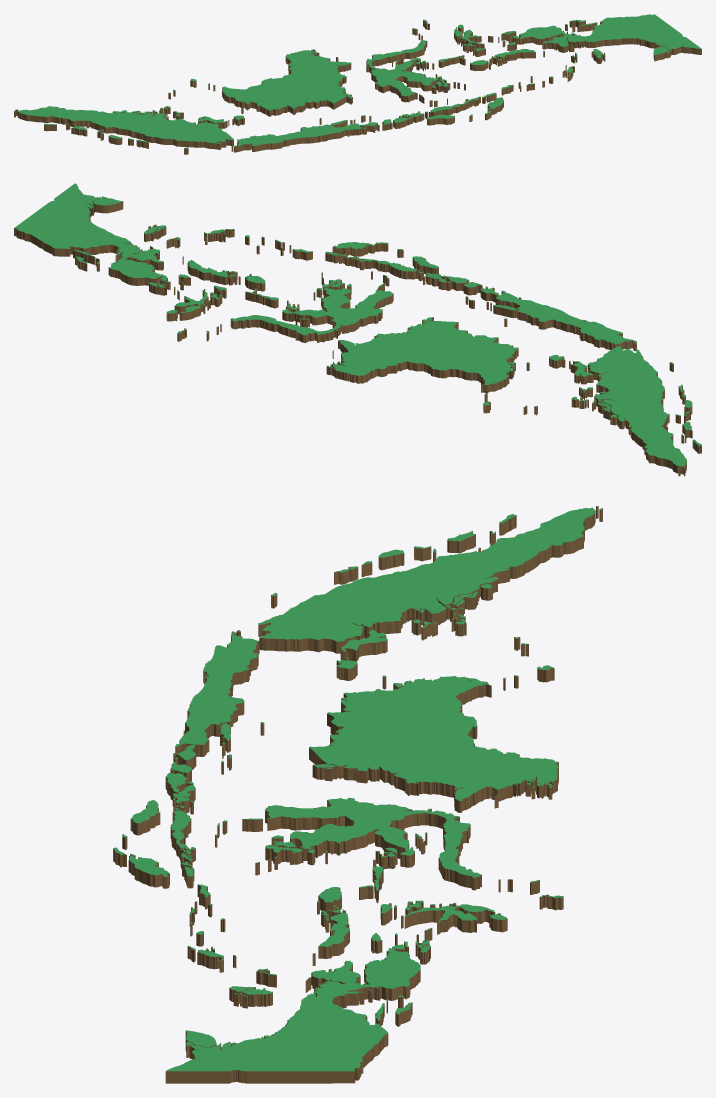
File: Peta_Indonesia_3D.fbx
The picture shows the model from 3 angles, top to bottom: view 1: azimuth 30°, elevation 25°; view 2: azimuth 150°, elevation 25°; view 3: azimuth 270°, elevation 25°; orthographic projection. The views are drawn at different scales.
Parts seen in each view (by area): view 1: Indonesia; view 2: Indonesia; view 3: Indonesia.
Part boxes in pixels (box(x1,y1,x2,y2)): Indonesia: box(14, 14, 701, 154); Indonesia: box(14, 183, 701, 476); Indonesia: box(113, 506, 602, 1083).
Bounding box in the file's own units: 2 × 0.02 × 0.7322.
